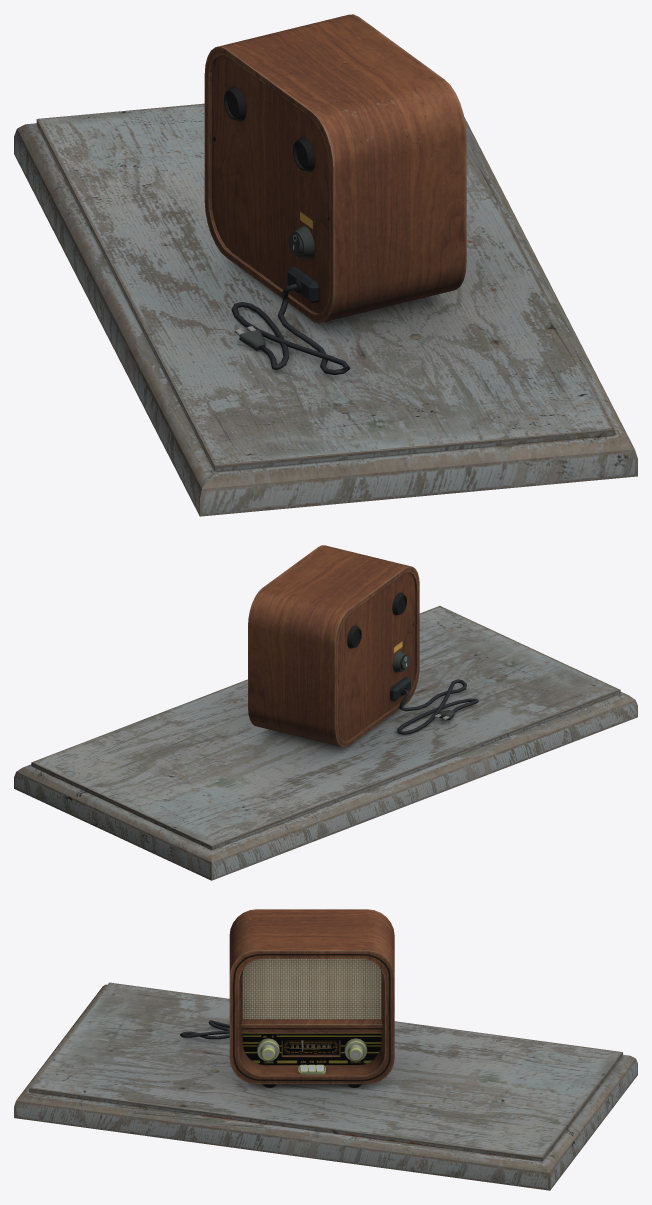
Rendered from vintage_retro_radio.glb.
The picture shows the model from 3 angles, top to bottom: view 1: azimuth 30°, elevation 25°; view 2: azimuth 150°, elevation 25°; view 3: azimuth 270°, elevation 25°; orthographic projection. The views are drawn at different scales.
Visible parts, largest first — view 1: Object_2; view 2: Object_2; view 3: Object_2.
Part boxes in pixels (x1,y1,x2,y2): Object_2: (14,14,637,516); Object_2: (14,545,637,880); Object_2: (14,909,637,1190).
Size of the model in its own units: 3.03 by 1.25 by 4.24.
1 material, 1 textured.
